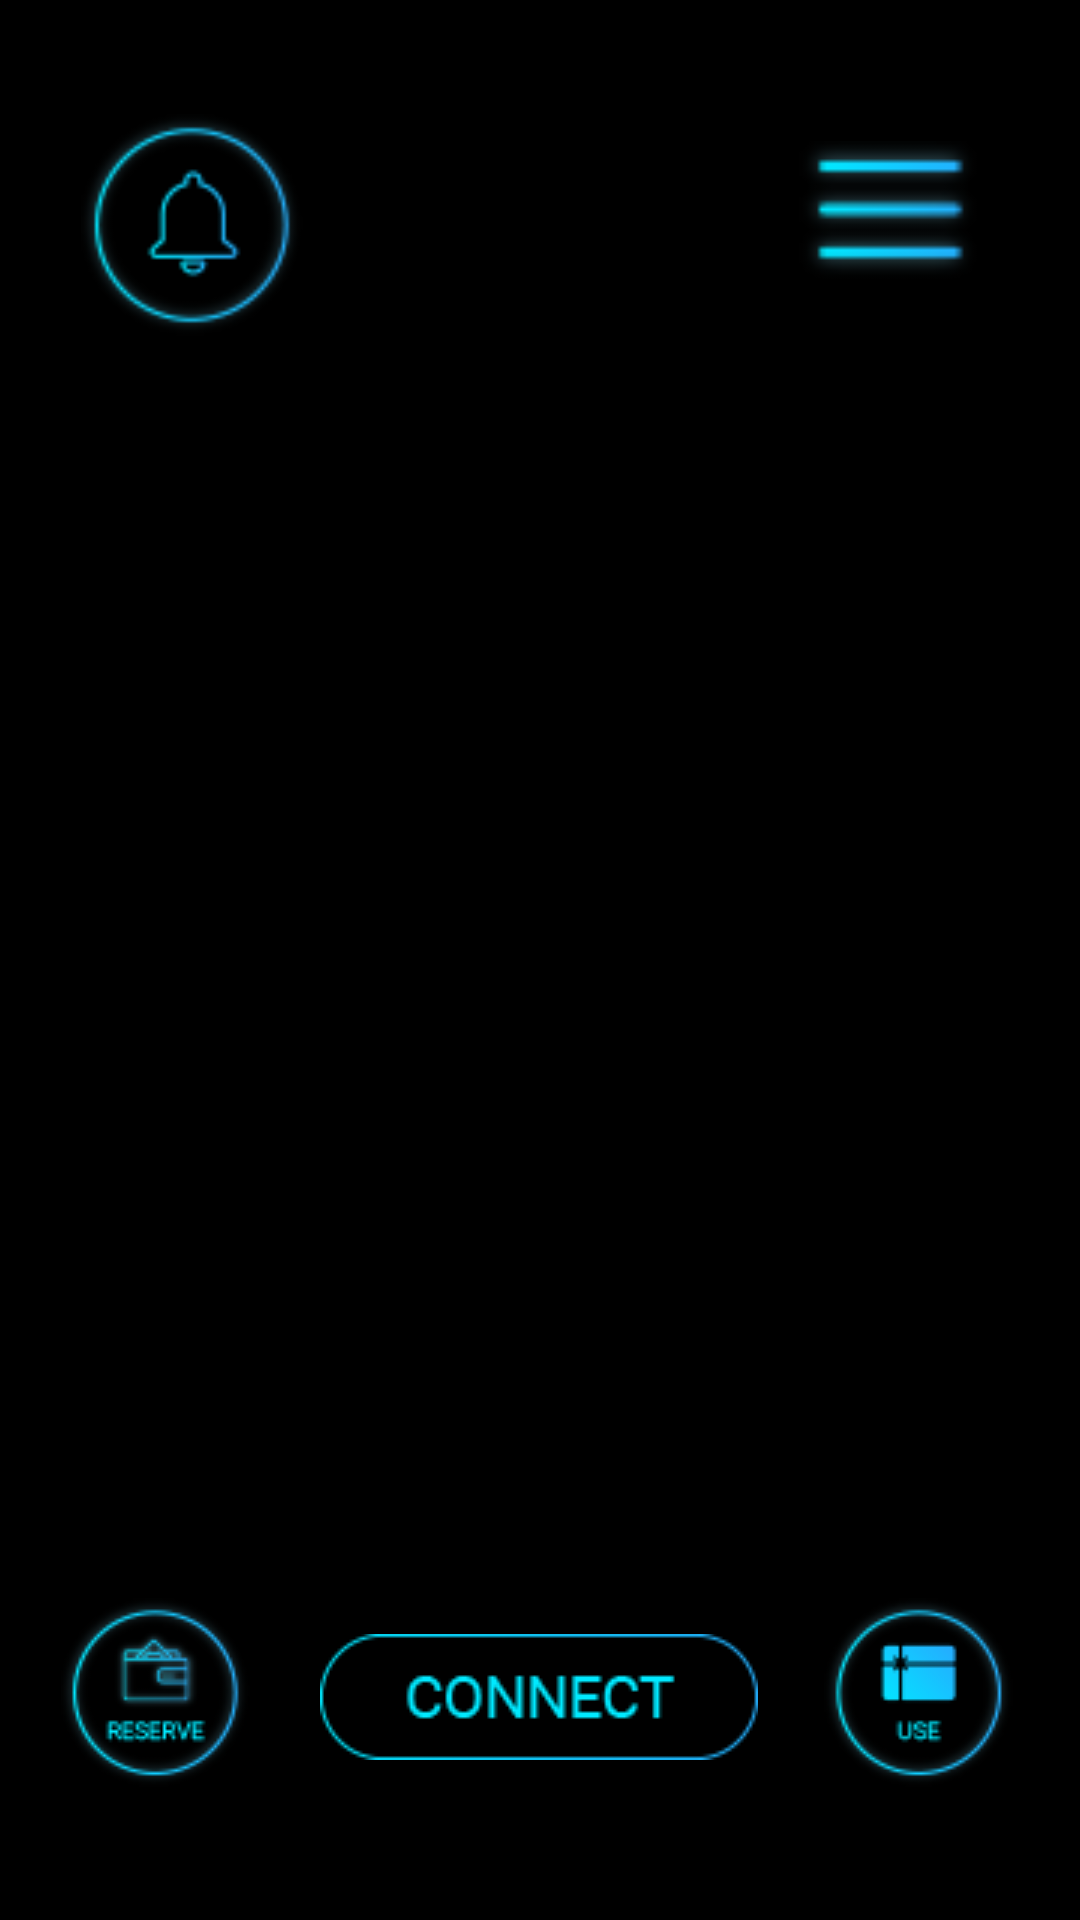

Named icons in this screenshot (1080 x 1920) and their bounding boxes, (x1, y1, x2, y2):
hamburger: (816, 152, 964, 266)
ring: (91, 125, 291, 324)
